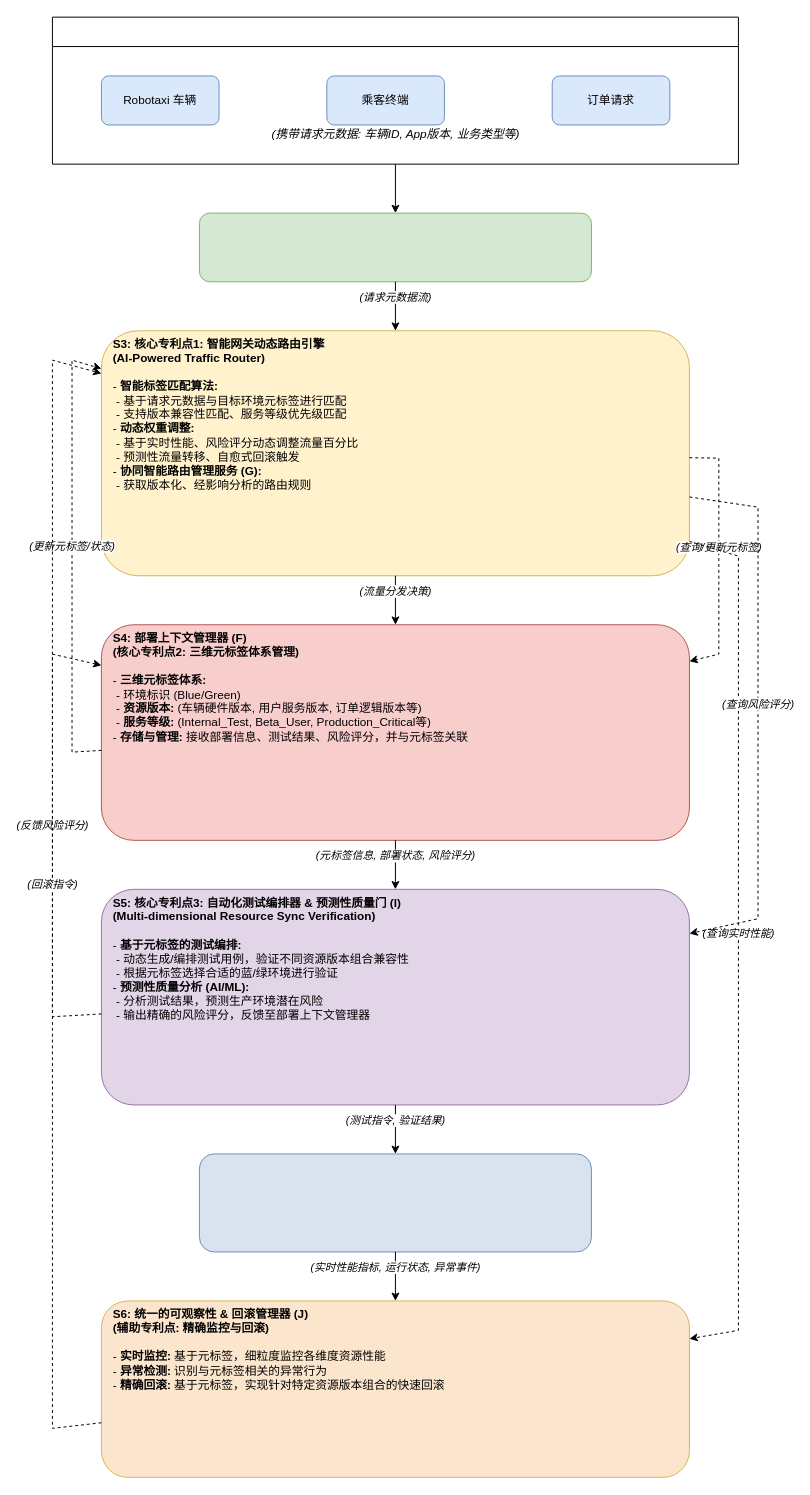
Some shapes in this 810 by 1495 pixel diagram are drawn without their labels. The box of each missing label's shape, as (x1, y1, x2, y2) in pixels:
S1: 用户交互层: (51, 16, 738, 164)
S2: API 网关 / MQ 网关 (解析请求元数据，转发至智能路由引擎): (198, 212, 591, 282)
蓝服务集群 (稳定生产) 绿服务集群 (新版本测试/预发布) - 包含不同版本的车辆硬件、用户服务、订单逻辑等资源: (198, 1153, 591, 1252)
